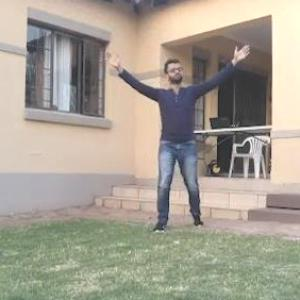takeoff: (85, 38, 241, 236)
